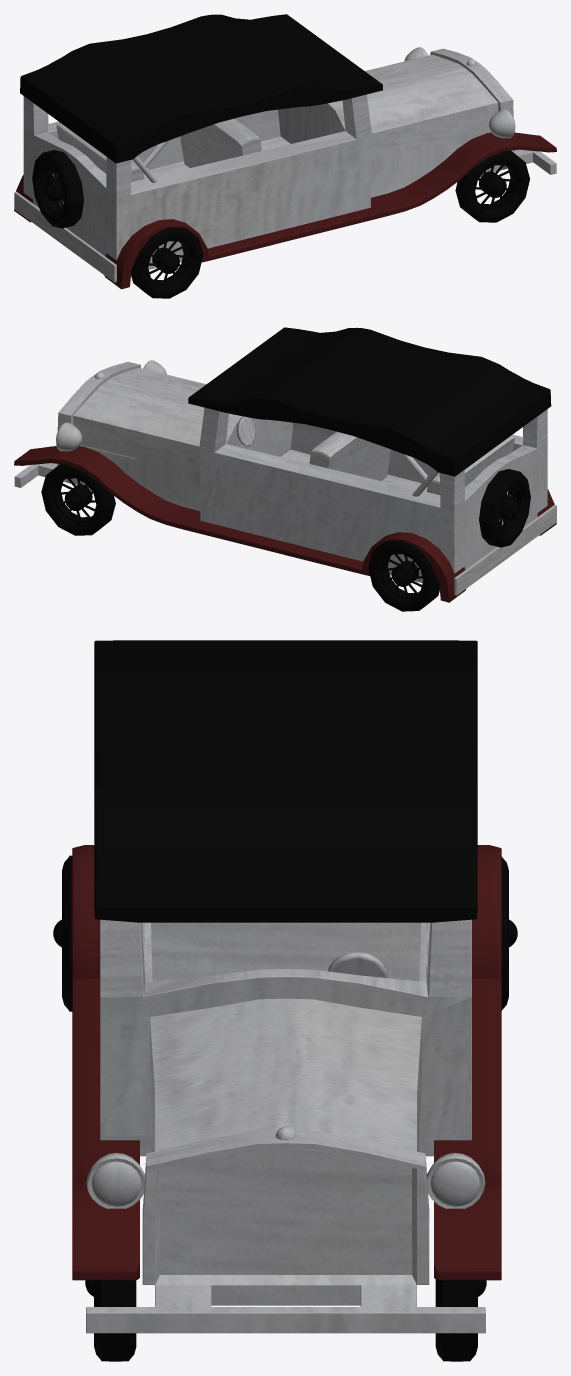
Rendered from WoodenClassicCar.0026.fbx.
The picture shows the model from 3 angles, top to bottom: view 1: azimuth 30°, elevation 25°; view 2: azimuth 150°, elevation 25°; view 3: azimuth 270°, elevation 25°; orthographic projection. The views are drawn at different scales.
Visible parts, largest first — view 1: pCube8; view 2: pCube8; view 3: pCube8.
Boxes of the visible parts, x1,y1,x2,y2 form: pCube8: (14, 14, 556, 298); pCube8: (14, 327, 556, 611); pCube8: (53, 640, 517, 1361).
Bounding box in the file's own units: 34.77 × 13.59 × 15.29.
